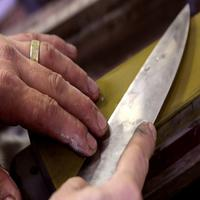knife: (71, 1, 195, 192)
